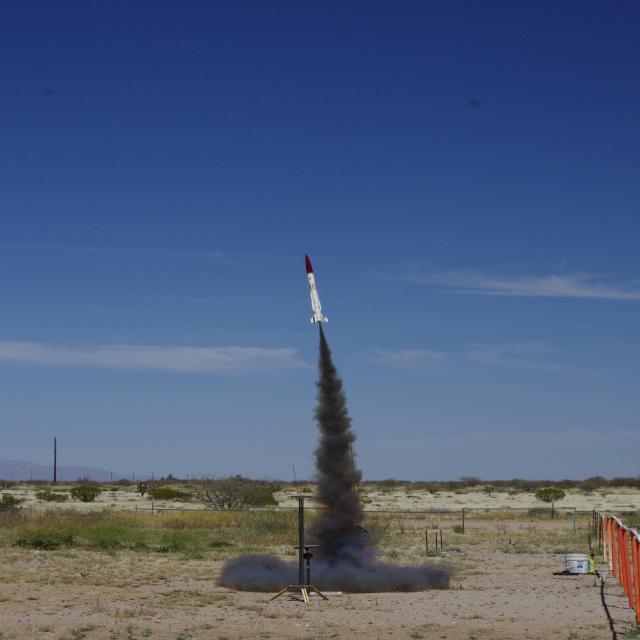Rocket: (305, 253, 329, 324)
